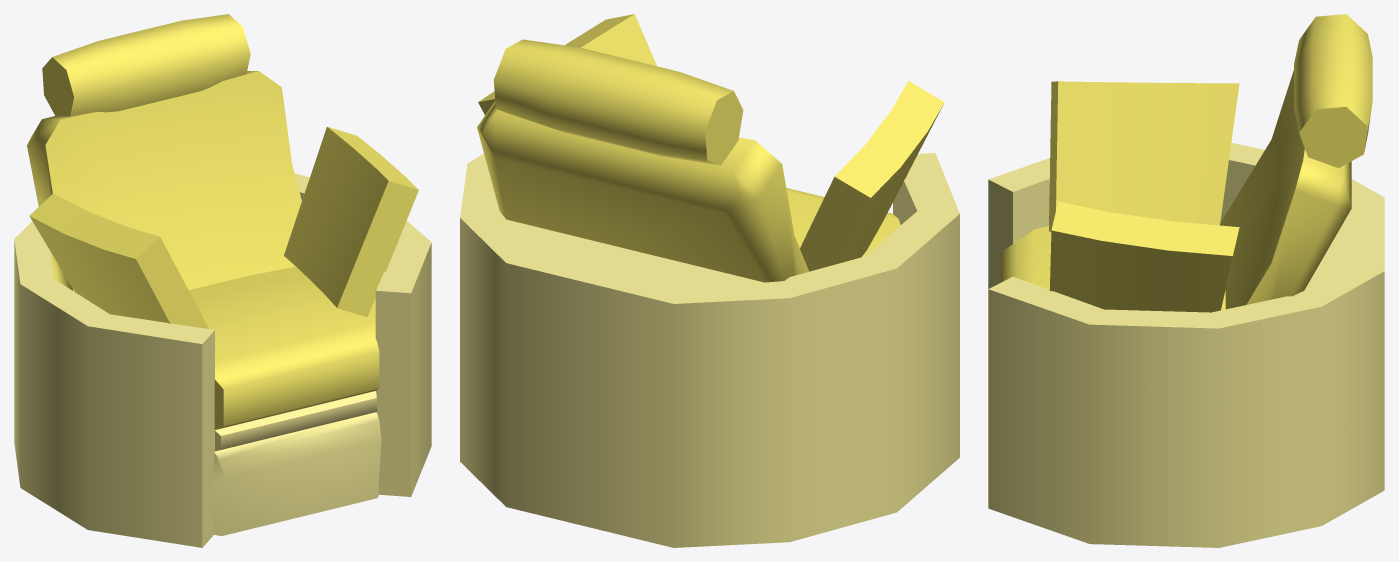
File: armchair_012.glb
The picture shows the model from 3 angles, left to right: view 1: azimuth 30°, elevation 25°; view 2: azimuth 150°, elevation 25°; view 3: azimuth 270°, elevation 25°; orthographic projection. The views are drawn at different scales.
Visible parts, largest first — view 1: armchair_012; view 2: armchair_012; view 3: armchair_012.
Part boxes in pixels (x1,y1,x2,y2): armchair_012: (14, 14, 431, 547); armchair_012: (460, 14, 959, 547); armchair_012: (988, 14, 1384, 547).
Size of the model in its own units: 1 by 0.9873 by 0.8917.
1 material, 1 textured.
